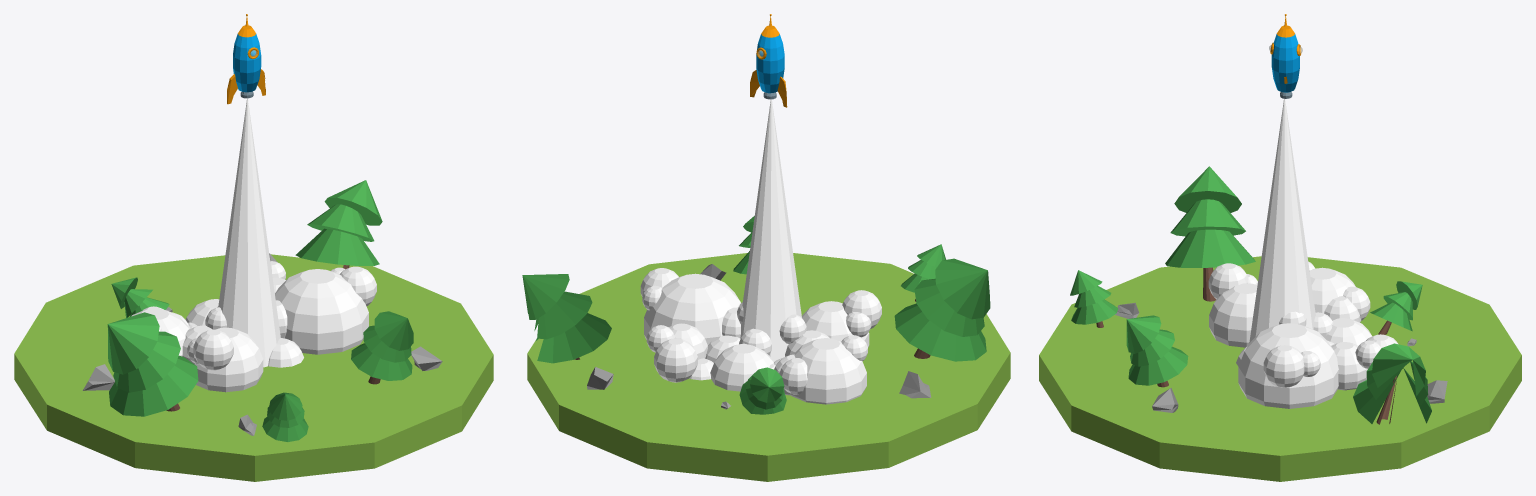
Rendered from scene_DKLM5YLxgw.glb.
The picture shows the model from 3 angles, left to right: view 1: azimuth 30°, elevation 25°; view 2: azimuth 150°, elevation 25°; view 3: azimuth 270°, elevation 25°; orthographic projection.
Parts seen in each view (by area): view 1: Node; view 2: Node; view 3: Node.
Part boxes in pixels (x1=…): Node: x1=14, y1=14, x2=493, y2=481; Node: x1=522, y1=14, x2=1010, y2=481; Node: x1=1039, y1=14, x2=1521, y2=481.
Size of the model in its own units: 4.65 by 4 by 4.7.
